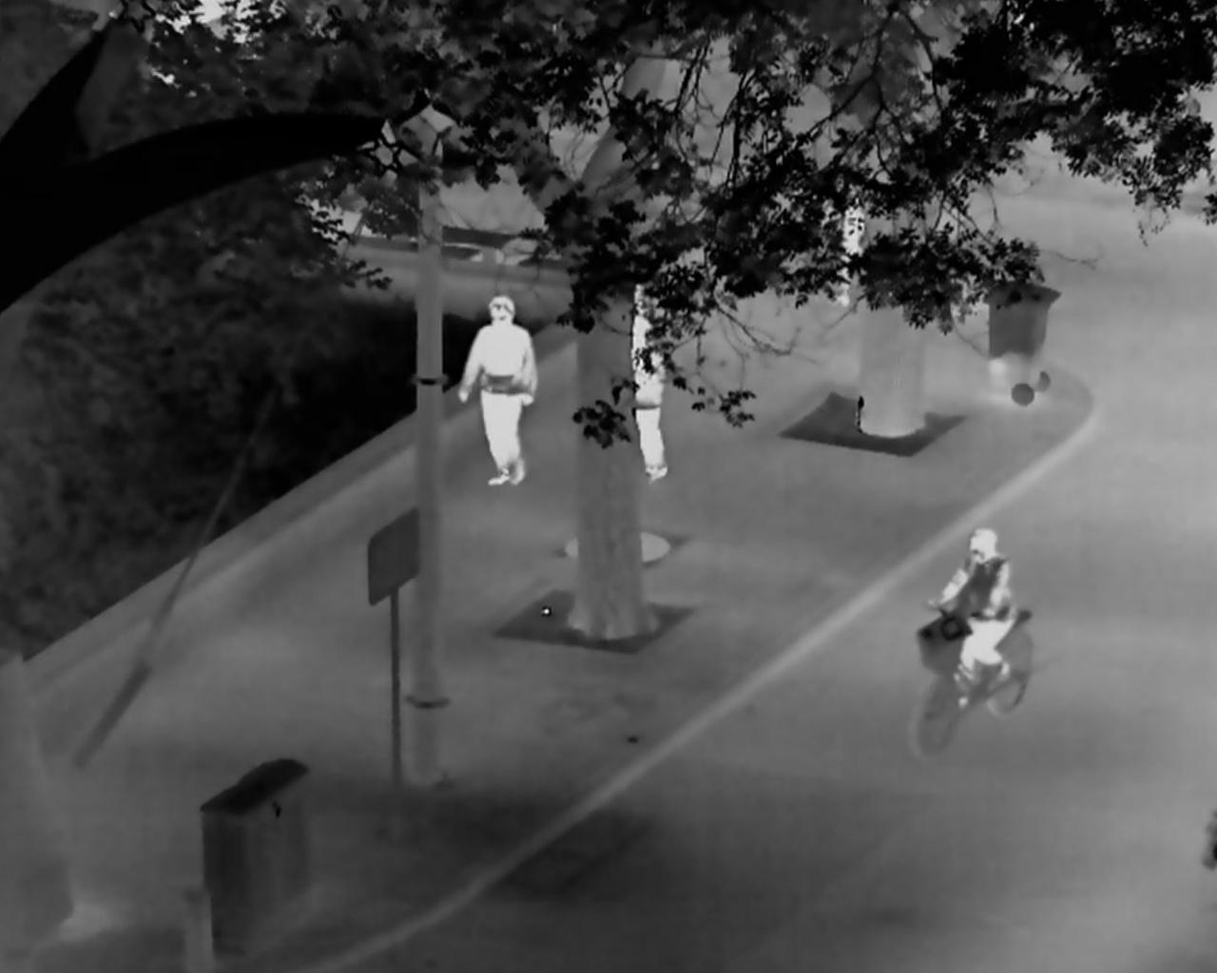person: (926, 526, 1019, 710), (458, 295, 535, 486), (630, 283, 670, 482), (819, 160, 863, 309)
